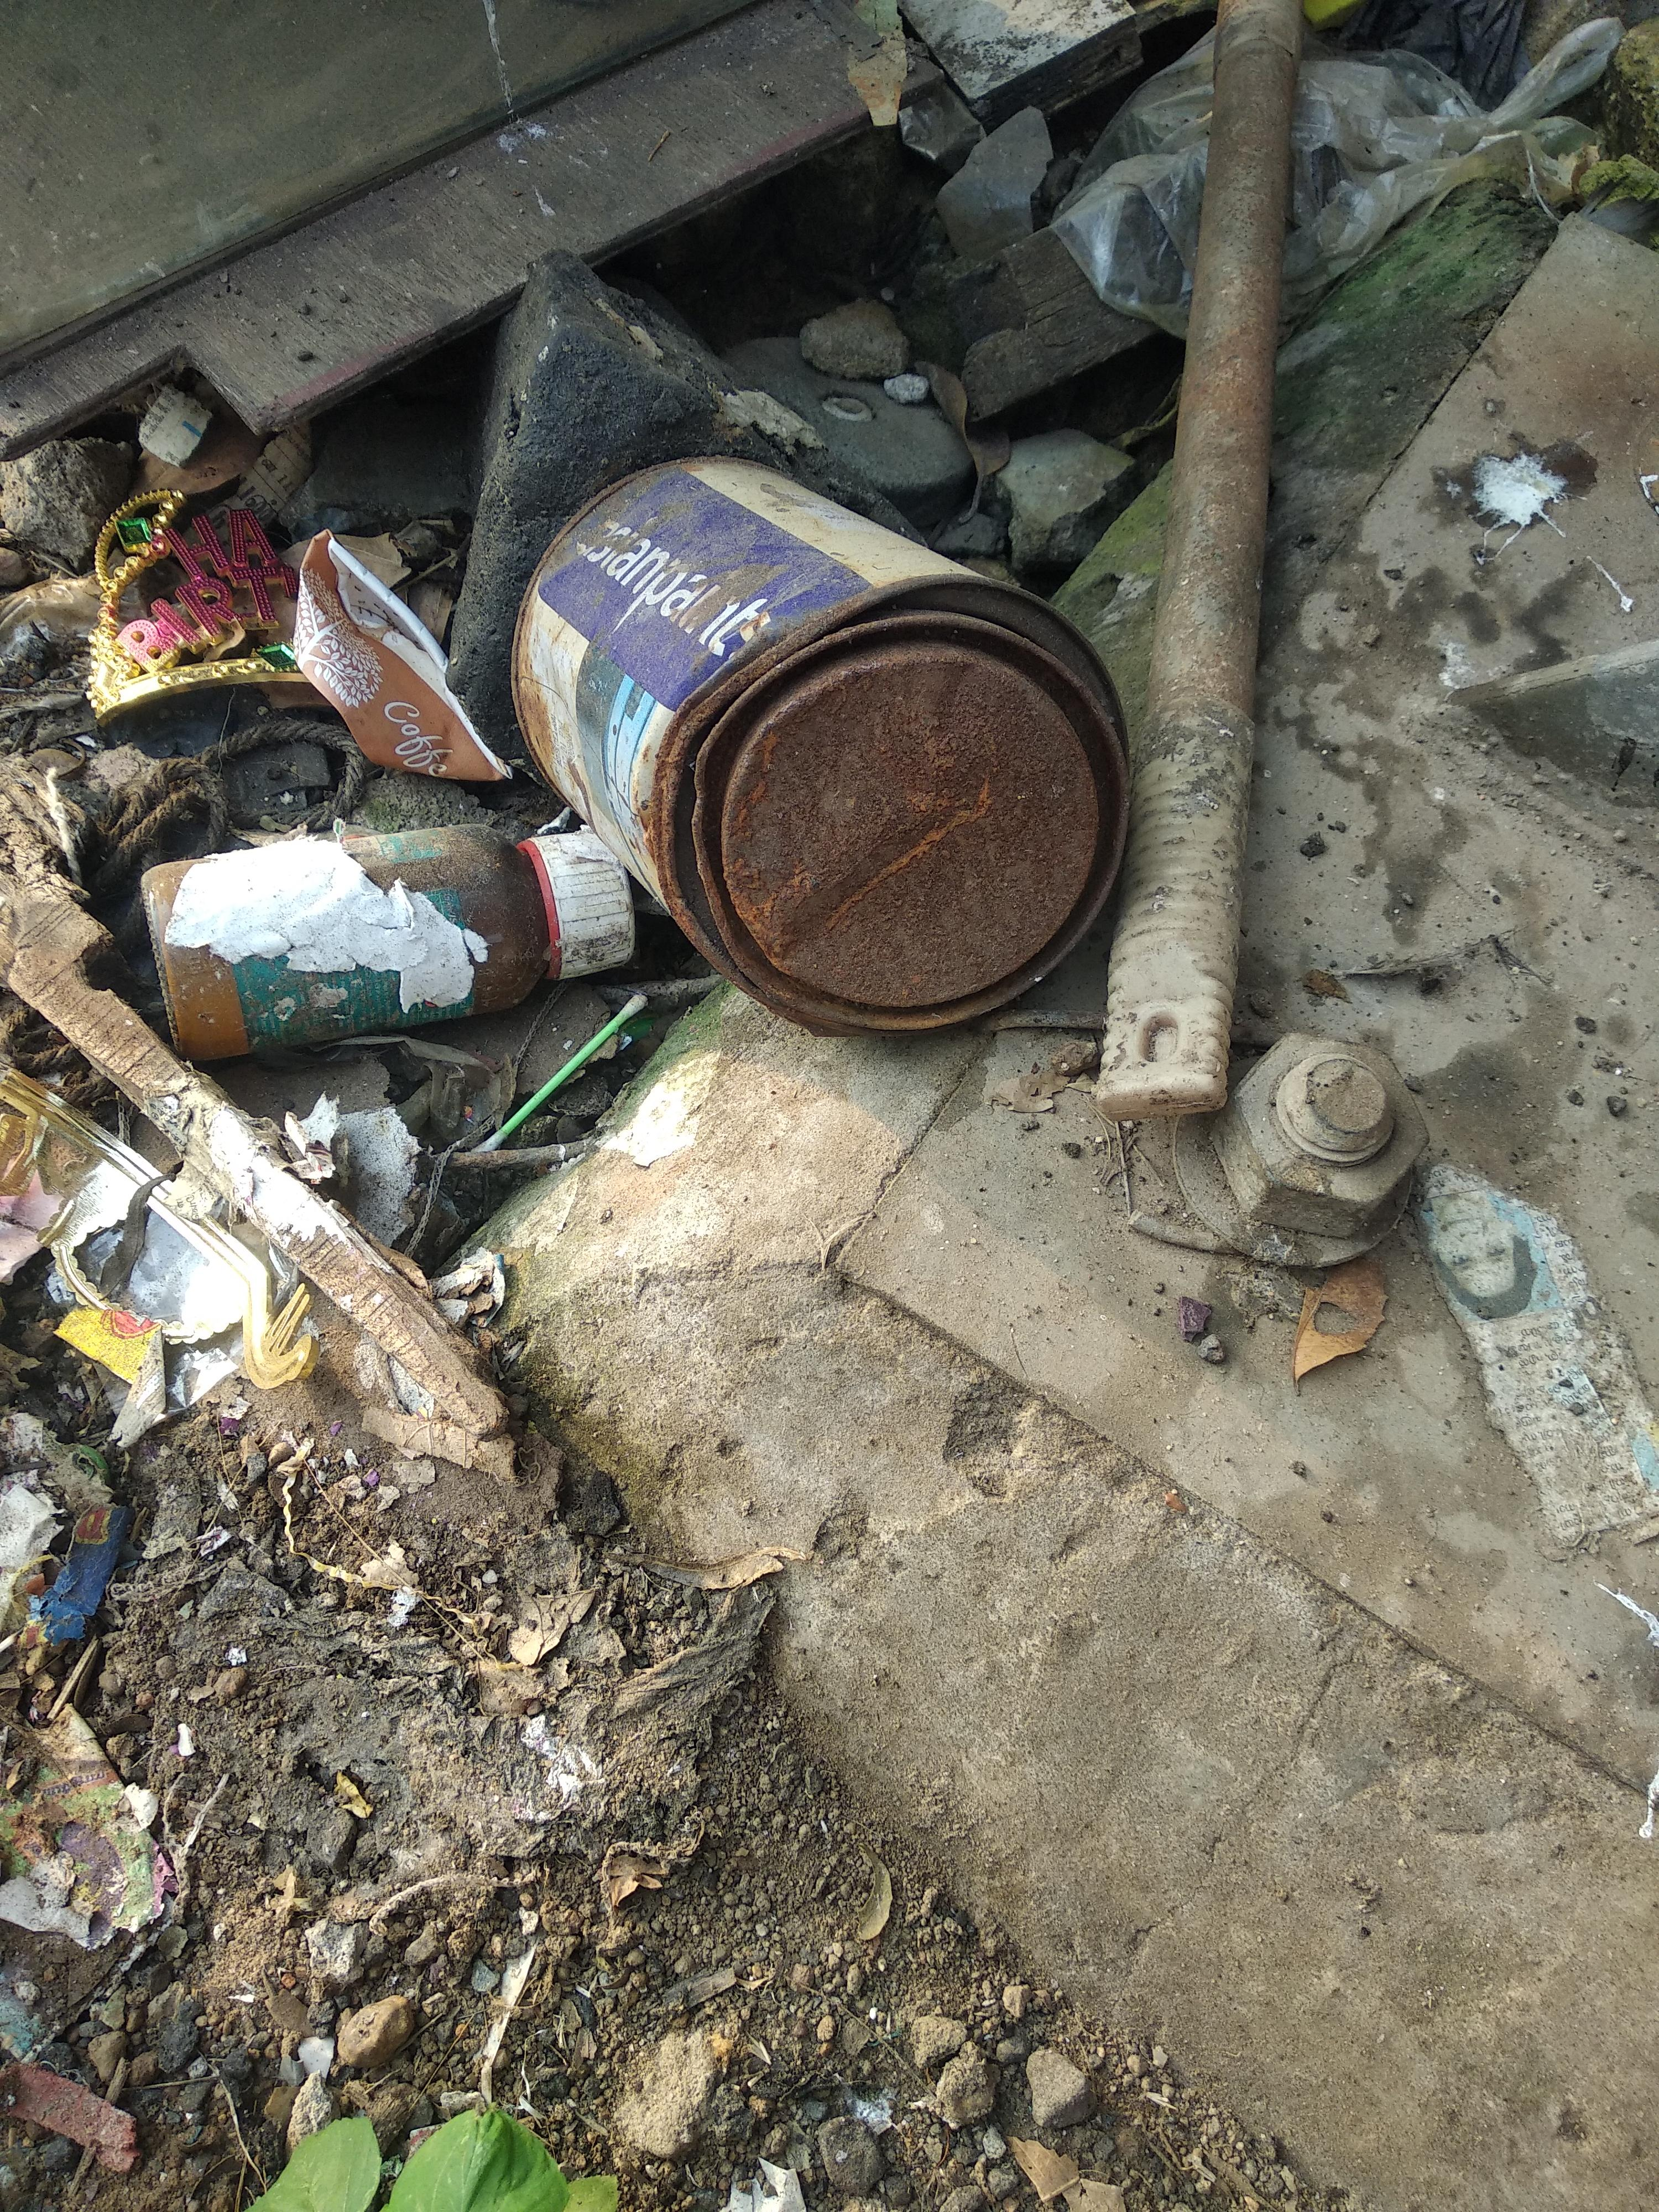trash: (0, 0, 1659, 1578)
